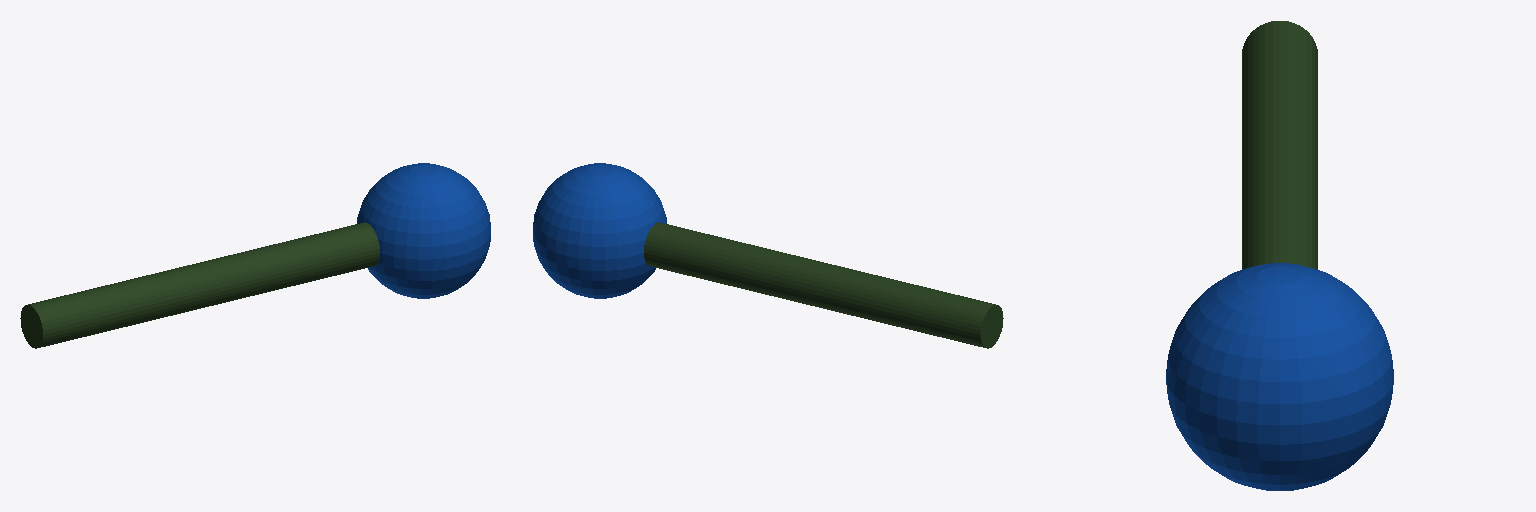
robot.urdf — platform:
<?xml version="1.0" ?>
<robot name="platform">

  <material name="industrial-blue">
    <color rgba="0.11372549019607843 0.34509803921568627 0.6549019607843137 1" />
  </material>

  <material name="arches-blue">
    <color rgba="0.0 0.6235294117647059 0.8313725490196079 1" />
  </material>

  <material name = "heritage-orange">
    <color rgba = "0.96078431 0.50980392 0.11764706 1" />
  </material>

  <material name = "forest-green">
    <color rgba = "0.2156862 0.309803 0.184313725 1" />
  </material>

  <link name="world"/>

  <link name="outer">
    <visual>
      <origin rpy="0 0 0" xyz="0 0 0"/>
      <geometry>
  			<mesh filename="cmg_outer.stl" scale="1.0 1.0 1.0"/>
      </geometry>
      <material name = "forest-green"/>
    </visual>
    <collision>
      <origin rpy="0 0 0" xyz="0 0 0"/>
      <geometry>
  			<mesh filename="cmg_outer.stl" scale="1.0 1.0 1.0"/>
      </geometry>
    </collision>
    <inertial>
      <origin rpy="0 0 0" xyz="0 0 0"/>
      <mass value="1.0"/>
      <inertia ixx="0.25" ixy="0" ixz="0" iyy="0.25" iyz="0" izz="0.5"/>
    </inertial>
  </link>

  <link name="inner">
    <visual>
      <origin rpy="0 0 0" xyz="0 0 0"/>
      <geometry>
  			<mesh filename="cmg_inner.stl" scale="1.0 1.0 1.0"/>
      </geometry>
      <material name = "arches-blue"/>
    </visual>
    <collision>
      <origin rpy="0 0 0" xyz="0 0 0"/>
      <geometry>
  			<mesh filename="cmg_inner.stl" scale="1.0 1.0 1.0"/>
      </geometry>
    </collision>
    <inertial>
      <origin rpy="0 0 0" xyz="0 0 0"/>
      <mass value="0.01"/>
      <inertia ixx="0.001" ixy="0" ixz="0" iyy="0.001" iyz="0" izz="0.001"/>
    </inertial>
  </link>

  <link name="wheel">
    <visual>
      <origin rpy="0 0 0" xyz="0 0 0"/>
      <geometry>
  			<mesh filename="cmg_wheel.stl" scale="1.0 1.0 1.0"/>
      </geometry>
      <material name = "heritage-orange"/>
    </visual>
    <collision>
      <origin rpy="0 0 0" xyz="0 0 0"/>
      <geometry>
  			<mesh filename="cmg_wheel.stl" scale="1.0 1.0 1.0"/>
      </geometry>
    </collision>
    <inertial>
      <origin rpy="0 0 0" xyz="0 0 0"/>
      <mass value="0.1"/>
      <inertia ixx="0.01" ixy="0" ixz="0" iyy="0.01" iyz="0" izz="0.01"/>
    </inertial>
  </link>

  <link name="spar">
    <visual>
      <origin rpy="0 0 0" xyz="0 0 0"/>
      <geometry>
  			<mesh filename="cmg_spar.stl" scale="1.0 1.0 1.0"/>
      </geometry>
      <material name = "forest-green"/>
    </visual>
    <collision>
      <origin rpy="0 0 0" xyz="0 0 0"/>
      <geometry>
  			<mesh filename="cmg_spar.stl" scale="1.0 1.0 1.0"/>
      </geometry>
    </collision>
    <inertial>
      <origin rpy="0 0 0" xyz="0 0 0"/>
      <mass value="0.0"/>
      <inertia ixx="0.0" ixy="0" ixz="0" iyy="0.0" iyz="0" izz="0.0"/>
    </inertial>
  </link>

  <link name="mass">
    <visual>
      <origin rpy="0 0 0" xyz="0 0 0"/>
      <geometry>
  			<mesh filename="cmg_mass.stl" scale="1.0 1.0 1.0"/>
      </geometry>
      <material name = "industrial-blue"/>
    </visual>
    <collision>
      <origin rpy="0 0 0" xyz="0 0 0"/>
      <geometry>
  			<mesh filename="cmg_mass.stl" scale="1.0 1.0 1.0"/>
      </geometry>
    </collision>
    <inertial>
      <origin rpy="0 0 0" xyz="0 0 0"/>
      <mass value="1."/>
      <inertia ixx="0.01" ixy="0" ixz="0" iyy="0.01" iyz="0" izz="0.01"/>
    </inertial>
  </link>

  <joint name="world_to_outer" type="continuous">
		<parent link = "world" />
		<child link = "outer" />
		<origin xyz = "0 0 0" />
		<axis xyz = "0 1 0" />
		<limit effort="1000" velocity="1000"/>
	</joint>

  <joint name="outer_to_inner" type="continuous">
		<parent link = "outer" />
		<child link = "inner" />
		<origin xyz = "0 0 0" />
		<axis xyz = "1 0 0" />
		<limit effort="1000" velocity="1000"/>
	</joint>

  <joint name="inner_to_wheel" type="continuous">
		<parent link = "inner" />
		<child link = "wheel" />
		<origin xyz = "0 0 0" />
		<axis xyz = "0 0 1" />
		<limit effort="1000" velocity="1000"/>
	</joint>

  <joint name="outer_to_spar" type="fixed">
		<parent link = "outer" />
		<child link = "spar" />
		<origin xyz = "1.5 0 0" />
	</joint>

  <joint name="spar_to_mass" type="fixed">
		<parent link = "spar" />
		<child link = "mass" />
		<origin xyz = "0.5 0 0" />
	</joint>



</robot>

--- Render facts (derived) ---
Views: 3 orthographic renders of the robot side by side, from view 1: azimuth 30°, elevation 25°; view 2: azimuth 150°, elevation 25°; view 3: azimuth 270°, elevation 25°.
Robot: platform — 6 links, 5 joints (3 continuous, 2 fixed); root link world; default pose: every joint at zero.
Visible links, largest first — view 1: spar, mass; view 2: spar, mass; view 3: mass, spar.
Link boxes in pixels (bbox=[...]): spar: bbox=[20, 222, 379, 348]; mass: bbox=[357, 163, 490, 298]; spar: bbox=[644, 222, 1003, 348]; mass: bbox=[533, 163, 666, 298]; mass: bbox=[1166, 263, 1393, 490]; spar: bbox=[1242, 21, 1317, 269].
Bounding box of the posed robot: 1.15 × 0.3 × 0.3 m (x, y, z).
2 mesh visuals loaded from 5 distinct referenced files (2 binary STL); not drawn: 3 (reference not matched to a file when rendering).